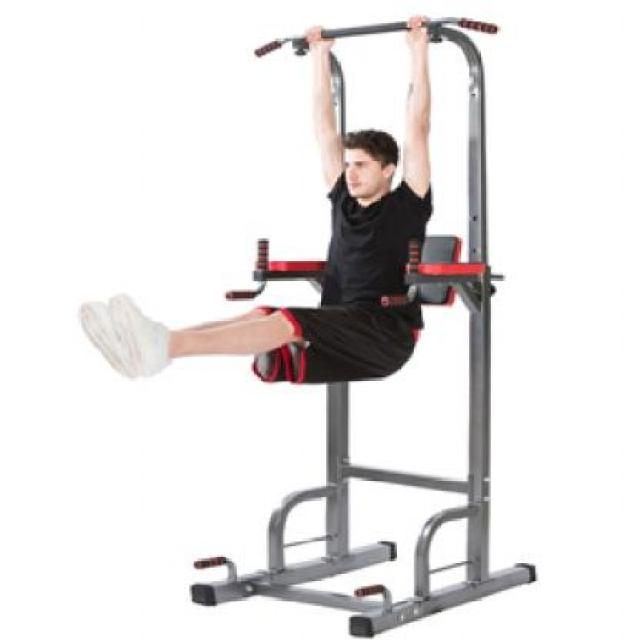chinning dipping: (191, 15, 537, 640)
